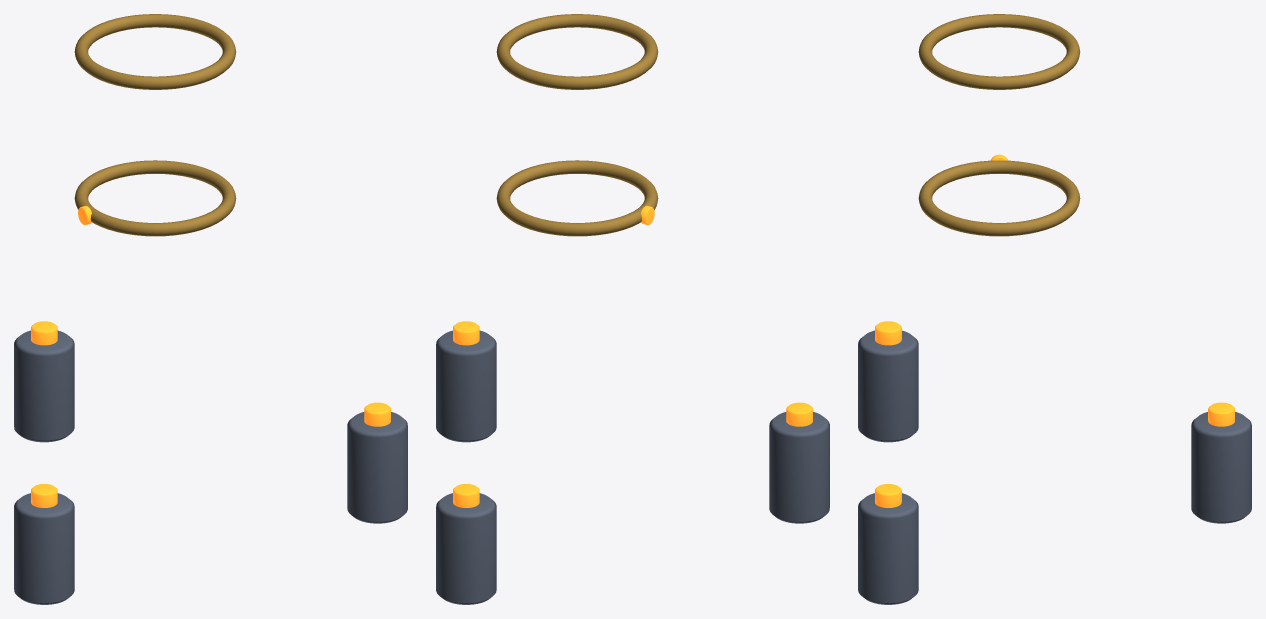
File: tower_overclock_potency_s3.glb
3 views of the same model, side by side, from view 1: azimuth 30°, elevation 25°; view 2: azimuth 150°, elevation 25°; view 3: azimuth 270°, elevation 25° (orthographic).
Visible parts, largest first — view 1: overclock_cap1, overclock_cap0, overclock_cap2, overclock_conductor1.98, overclock_conductor1.5, overclock_cap_top0, overclock_cap_top1, overclock_cap_top2; view 2: overclock_cap2, overclock_cap0, overclock_cap1, overclock_conductor1.98, overclock_conductor1.5, overclock_cap_top2, overclock_cap_top1, overclock_cap_top0; view 3: overclock_cap0, overclock_cap2, overclock_cap1, overclock_conductor1.98, overclock_conductor1.5, overclock_cap_top0, overclock_cap_top2, overclock_cap_top1.
Boxes of the visible parts, x1,y1,x2,y2 form: overclock_cap1: [347, 412, 407, 523]; overclock_cap0: [14, 330, 74, 442]; overclock_cap2: [14, 493, 74, 604]; overclock_conductor1.98: [74, 14, 236, 89]; overclock_conductor1.5: [74, 160, 236, 236]; overclock_cap_top0: [31, 321, 57, 345]; overclock_cap_top1: [364, 402, 390, 426]; overclock_cap_top2: [31, 484, 57, 507]; overclock_cap2: [769, 412, 829, 523]; overclock_cap0: [436, 493, 496, 604]; overclock_cap1: [436, 330, 496, 442]; overclock_conductor1.98: [496, 14, 658, 89]; overclock_conductor1.5: [496, 160, 658, 236]; overclock_cap_top2: [786, 402, 812, 426]; overclock_cap_top1: [453, 321, 479, 345]; overclock_cap_top0: [453, 484, 479, 507]; overclock_cap0: [1191, 412, 1251, 523]; overclock_cap2: [858, 330, 918, 442]; overclock_cap1: [858, 493, 918, 604]; overclock_conductor1.98: [918, 14, 1080, 89]; overclock_conductor1.5: [918, 160, 1080, 236]; overclock_cap_top0: [1208, 402, 1234, 426]; overclock_cap_top2: [875, 321, 901, 345]; overclock_cap_top1: [875, 484, 901, 507].
Size of the model in its own units: 1.32 by 1.53 by 1.17.
